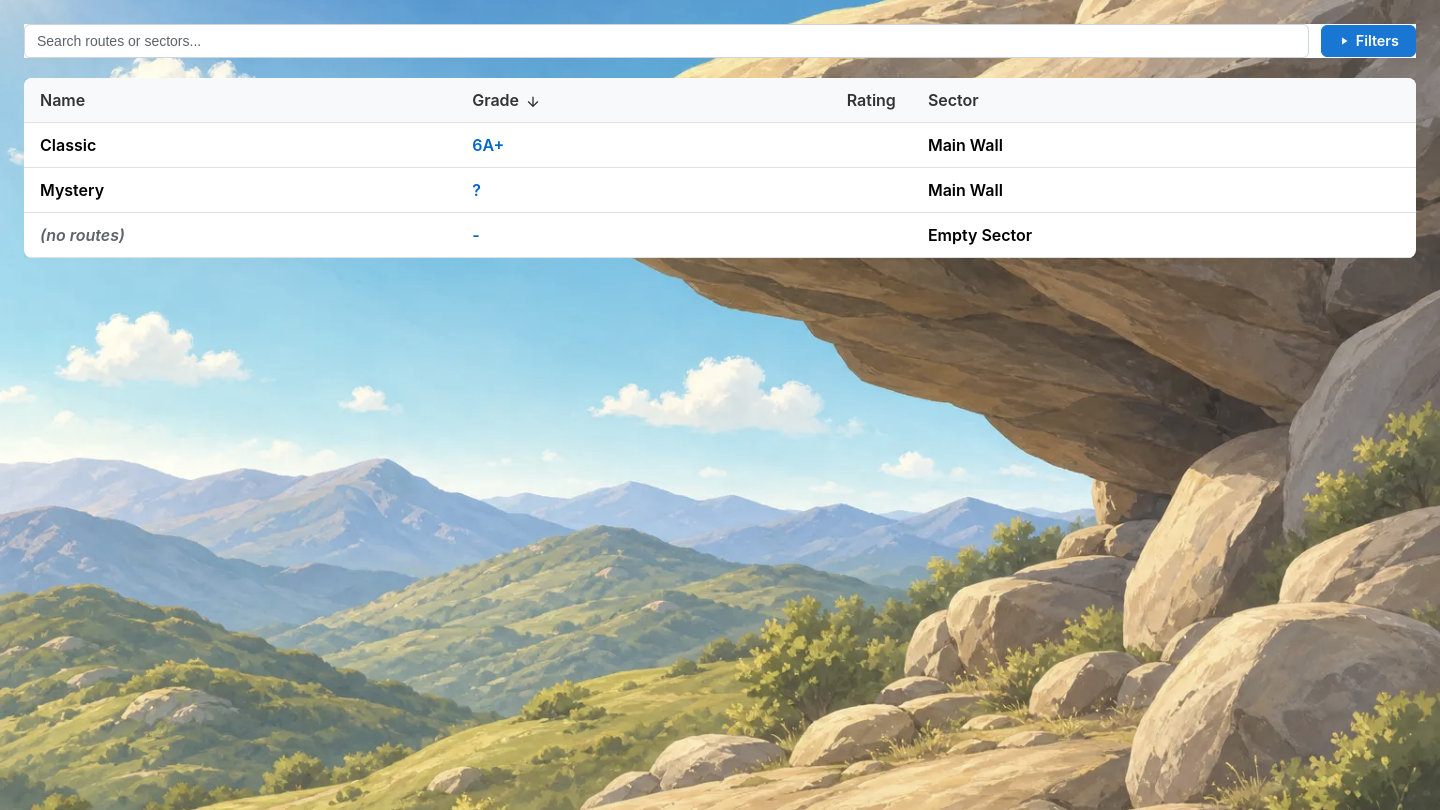
Test: RoutesPage › shows no-routes when the search matches nothing
This screenshot has width=1440, height=810.
Type "zzzz" into the field labelled "Search routes or sectors". click: (666, 41)
box: [24,24,1309,58]
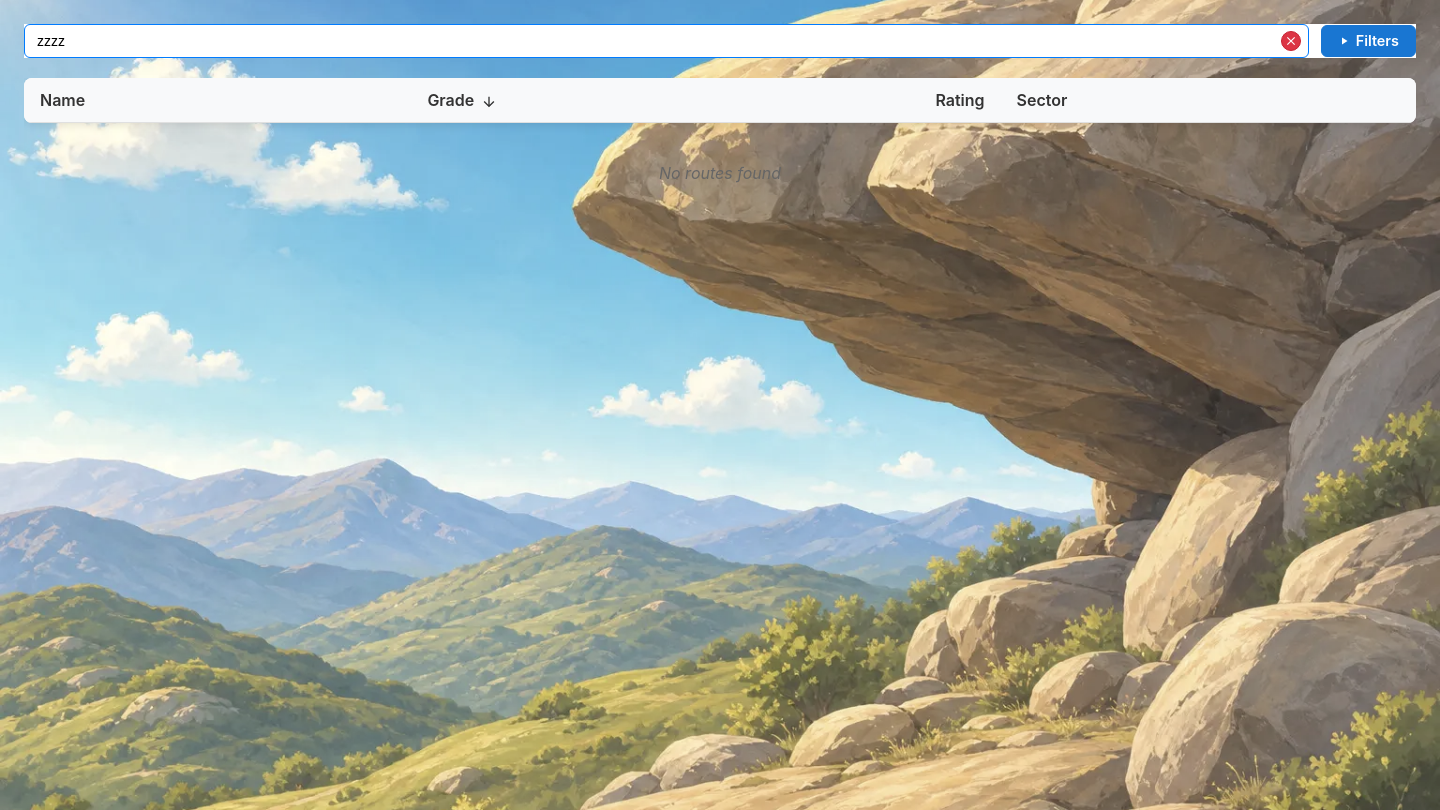
Check: the text "No routes found" is shown, box [659,163,781,183]
Check: the link "Classic" is gone
